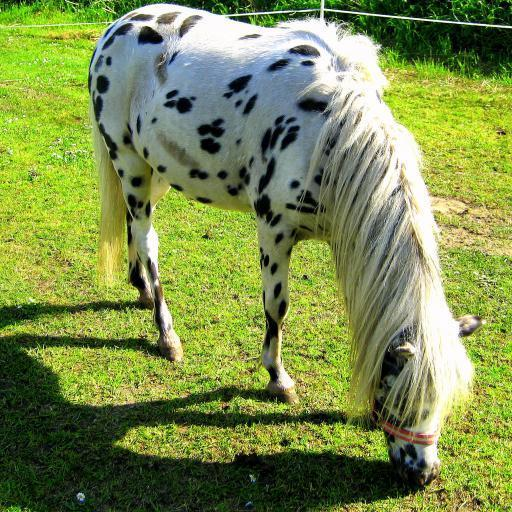horse: (93, 2, 478, 491)
